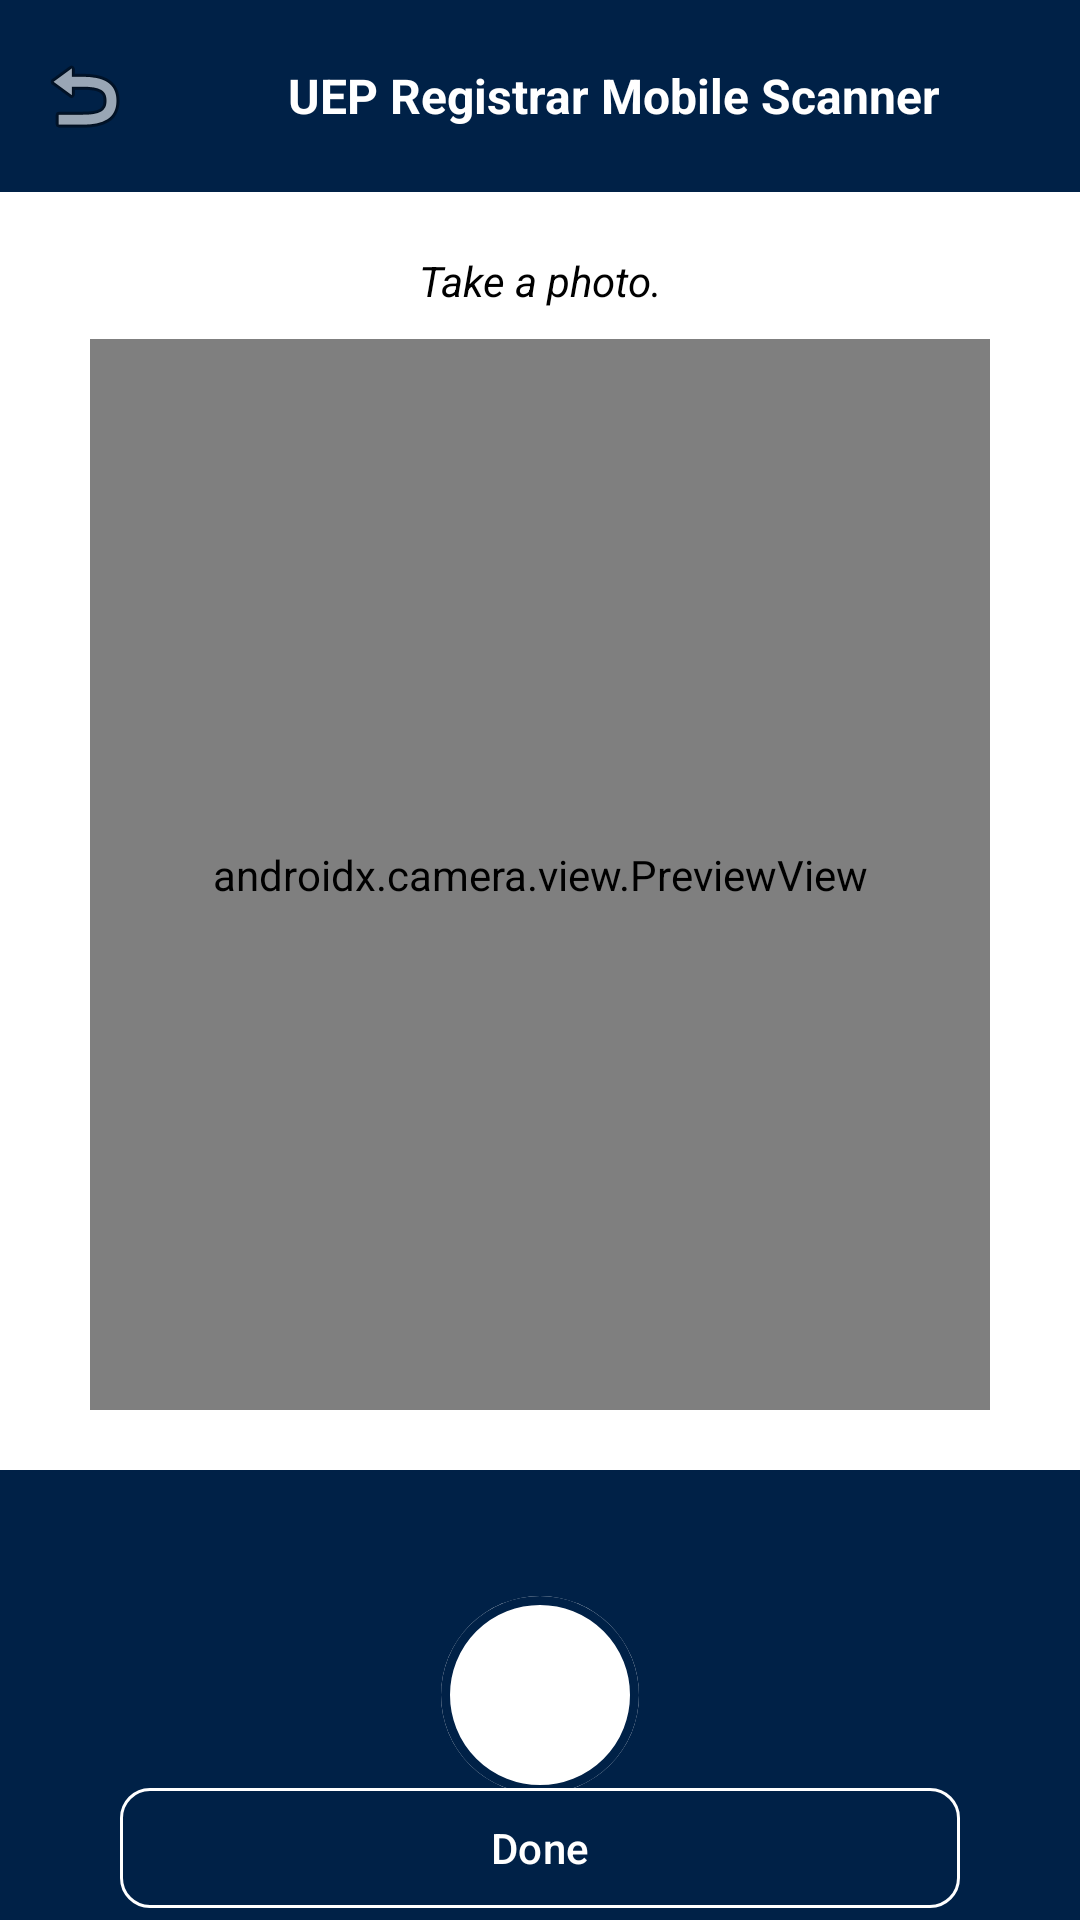

Screen size 1080px x 1920px. Icon name, then its box in pixels as (x1, y1, x2, y2):
Take Photo: (441, 1596, 639, 1787)
